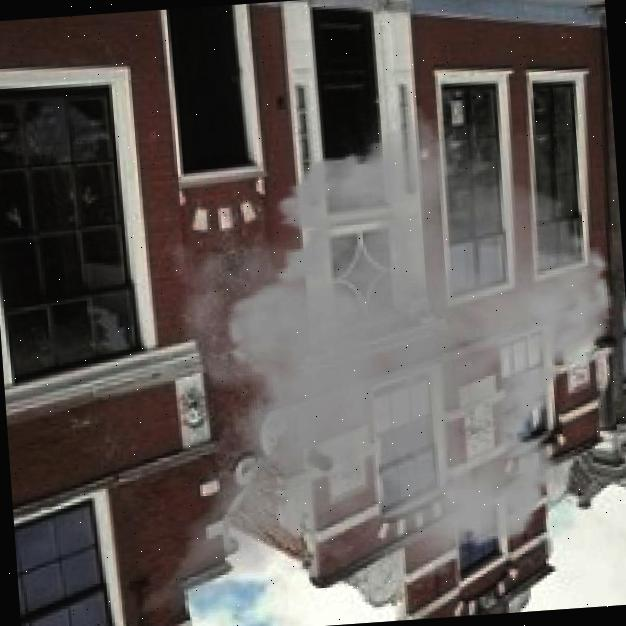smoke: (73, 75, 626, 626)
